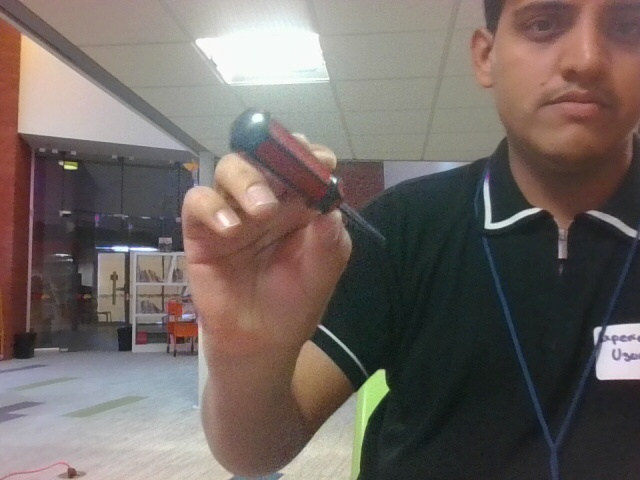destornillador: (230, 107, 385, 250)
